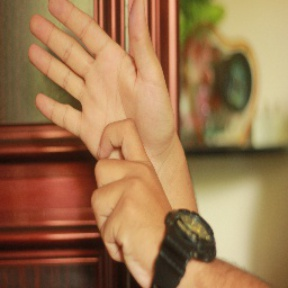R: (30, 1, 194, 242)
